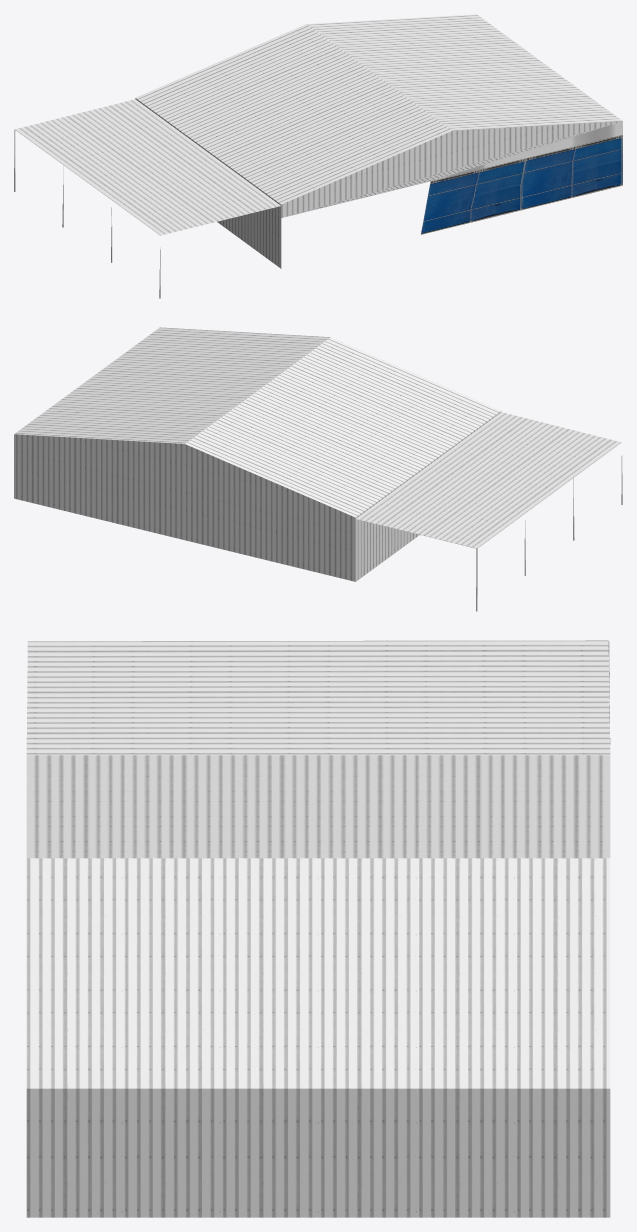
Rendered from KibuiBigHangar_LOD2.gltf.
3 renders of one model, top to bottom at view 1: azimuth 30°, elevation 25°; view 2: azimuth 150°, elevation 25°; view 3: azimuth 270°, elevation 25°, orthographic. The views are drawn at different scales.
Visible parts, largest first — view 1: node8, node9; view 2: node8; view 3: node8.
Part boxes in pixels (box(x1,y1,x2,y2)): node8: box(14, 14, 622, 298); node9: box(421, 135, 622, 234); node8: box(14, 327, 622, 611); node8: box(26, 640, 610, 1217).
Bounding box in the file's own units: 22.9 × 4.55 × 12.5.
